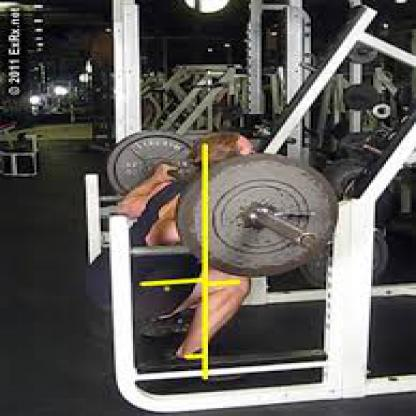Barbell: (172, 144, 343, 276)
